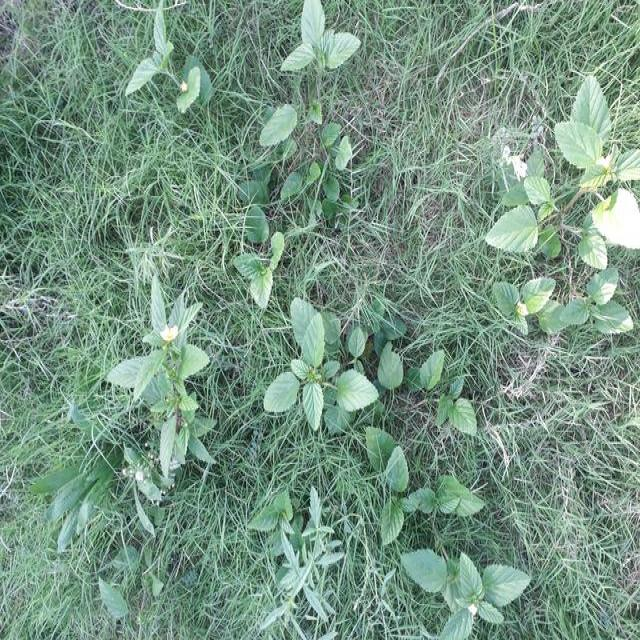weed: (549, 87, 640, 330), (122, 289, 210, 477), (276, 304, 388, 445), (245, 487, 347, 632), (274, 3, 357, 146), (398, 546, 528, 637), (356, 441, 470, 540), (133, 34, 212, 118), (238, 205, 303, 306)
